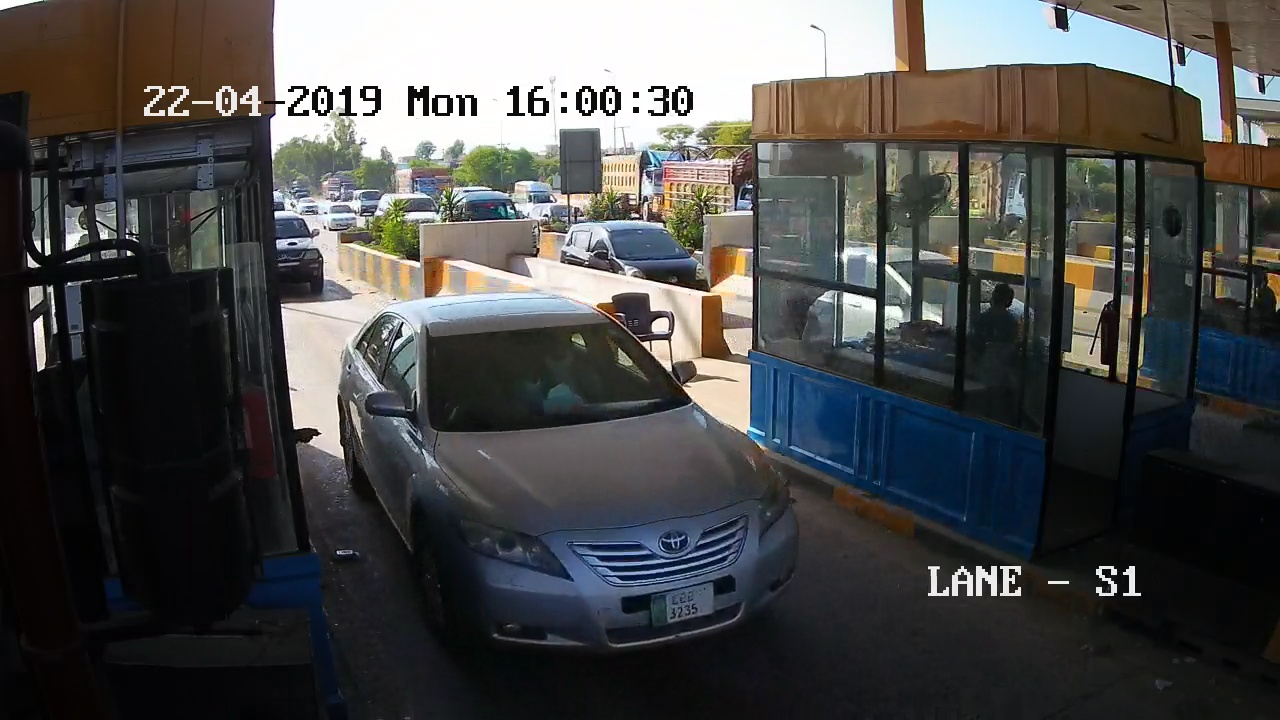Number Plate (Car): (650, 583, 717, 624)
